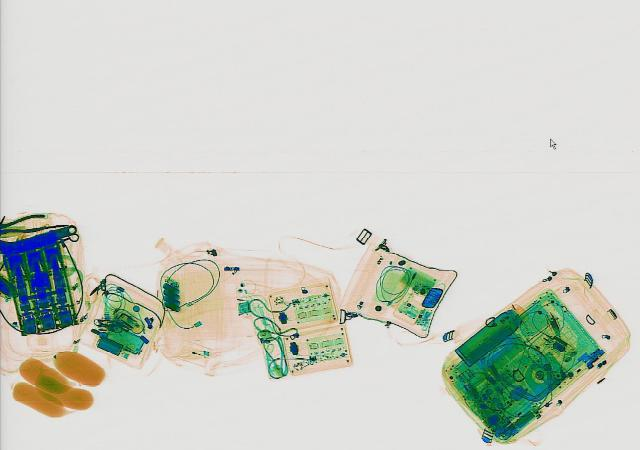Pliers: (0, 211, 51, 235)
Wrench: (0, 220, 80, 254)
